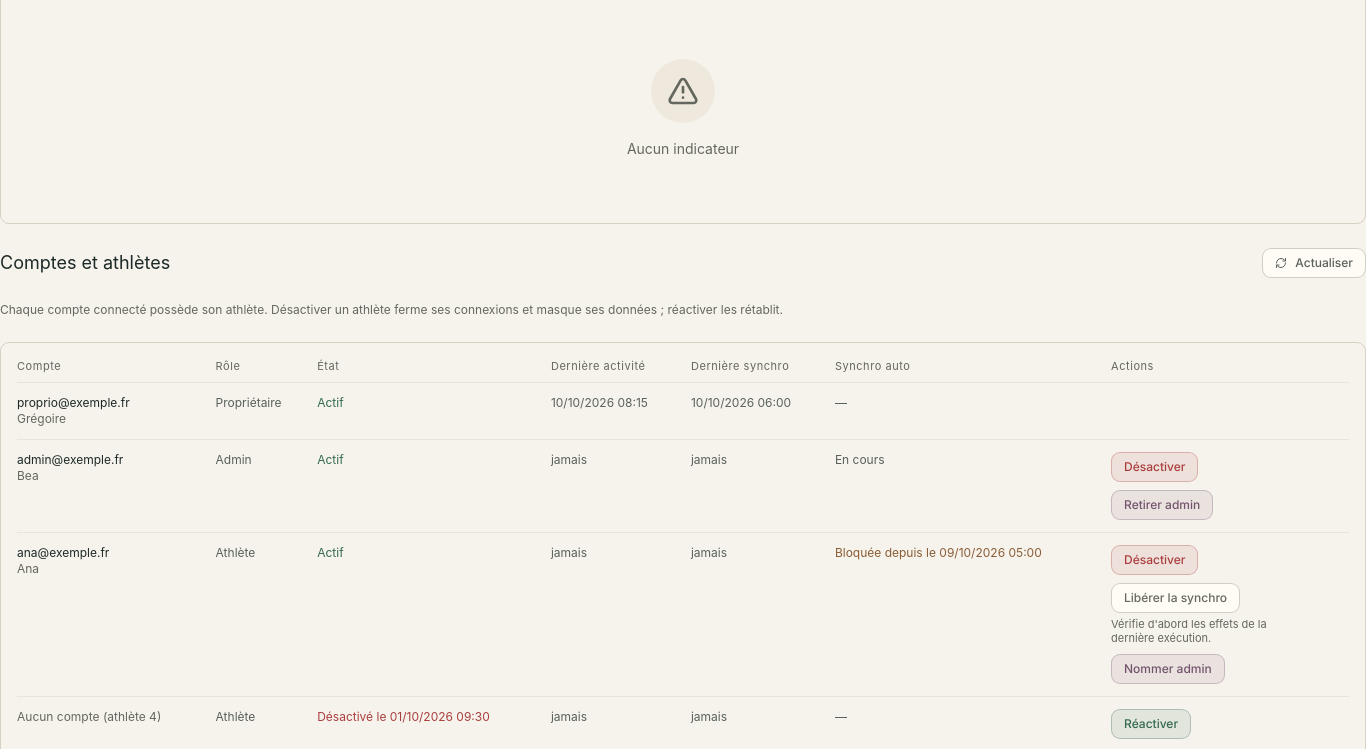
Test: releases a stuck lease and says when there was none
(page scrolled)
Expected: the text "Vérifie d'abord les effets de la dernière exécution." is shown, [1111, 617, 1267, 645]
Click the button "Libérer la synchro". click: (1176, 598)
box: [1111, 583, 1240, 613]
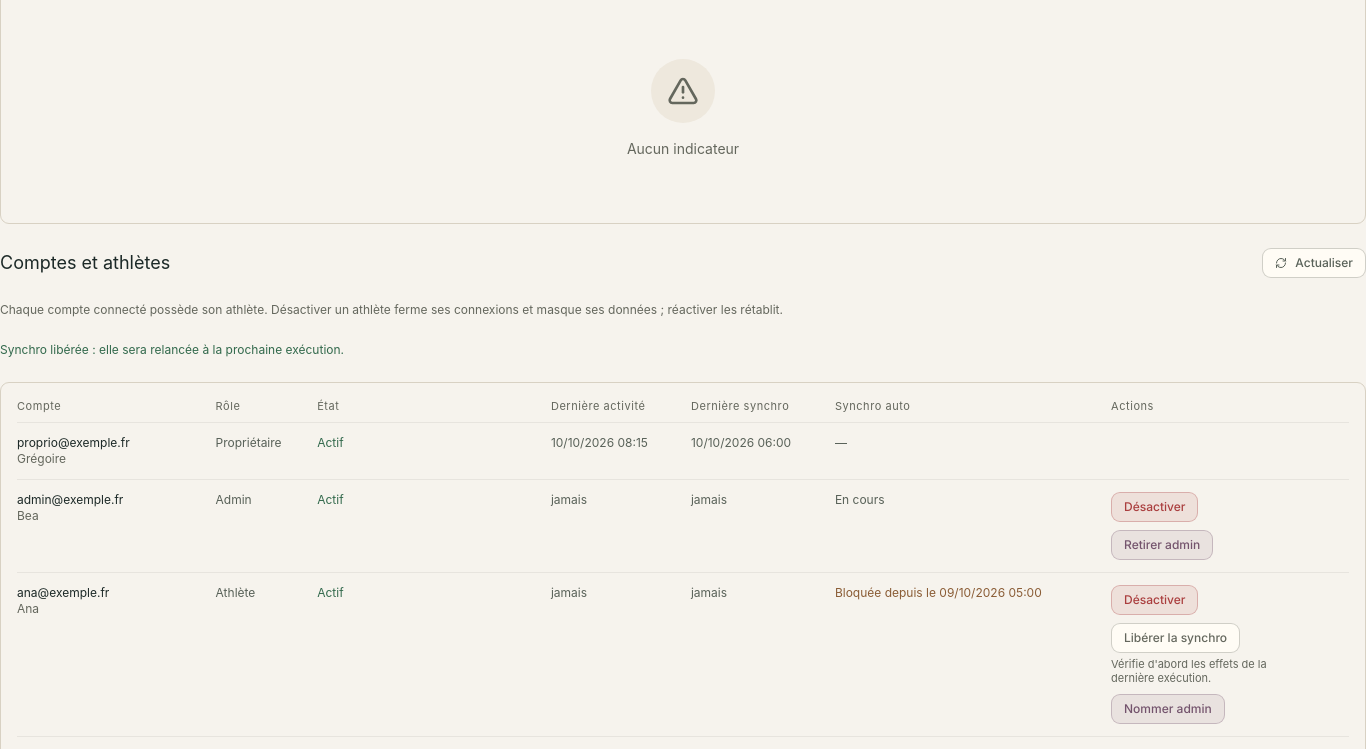
Expected: the message reads "Synchro libérée : elle sera relancée à la prochaine exécution.", [0, 342, 344, 357]
Click the button "Libérer la synchro". click: (1176, 638)
box: [1111, 623, 1240, 653]
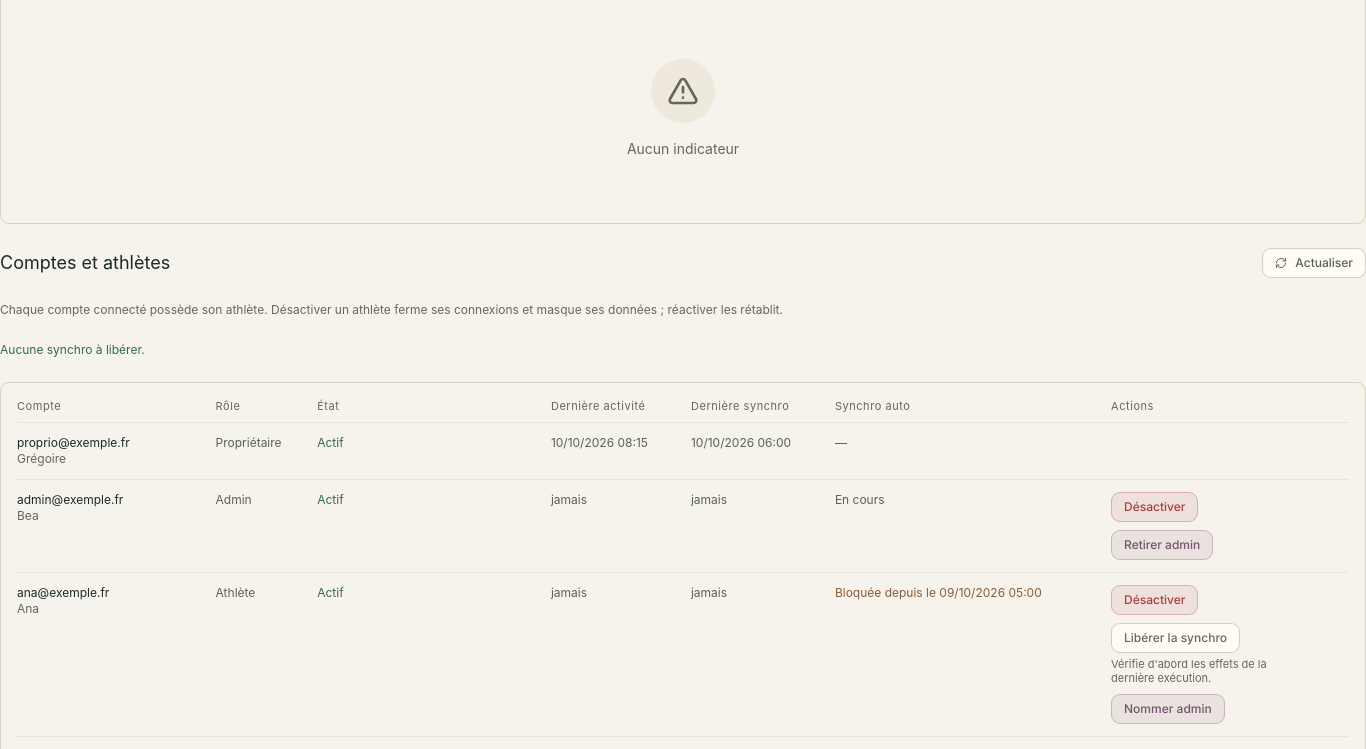
Expected: the message reads "Aucune synchro à libérer.", [0, 342, 145, 357]
